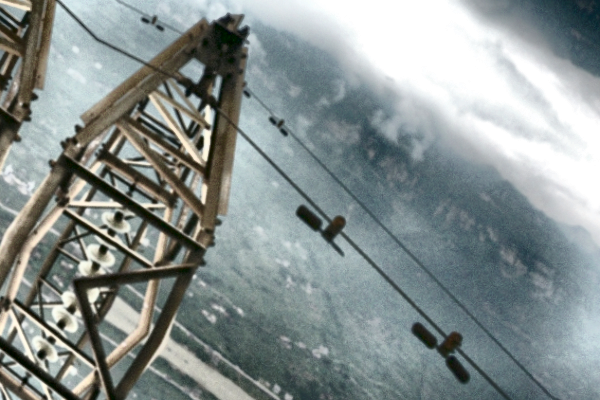damper: (408, 319, 476, 385), (139, 13, 165, 31), (268, 115, 289, 137)
damper_defect: (293, 201, 349, 259)
